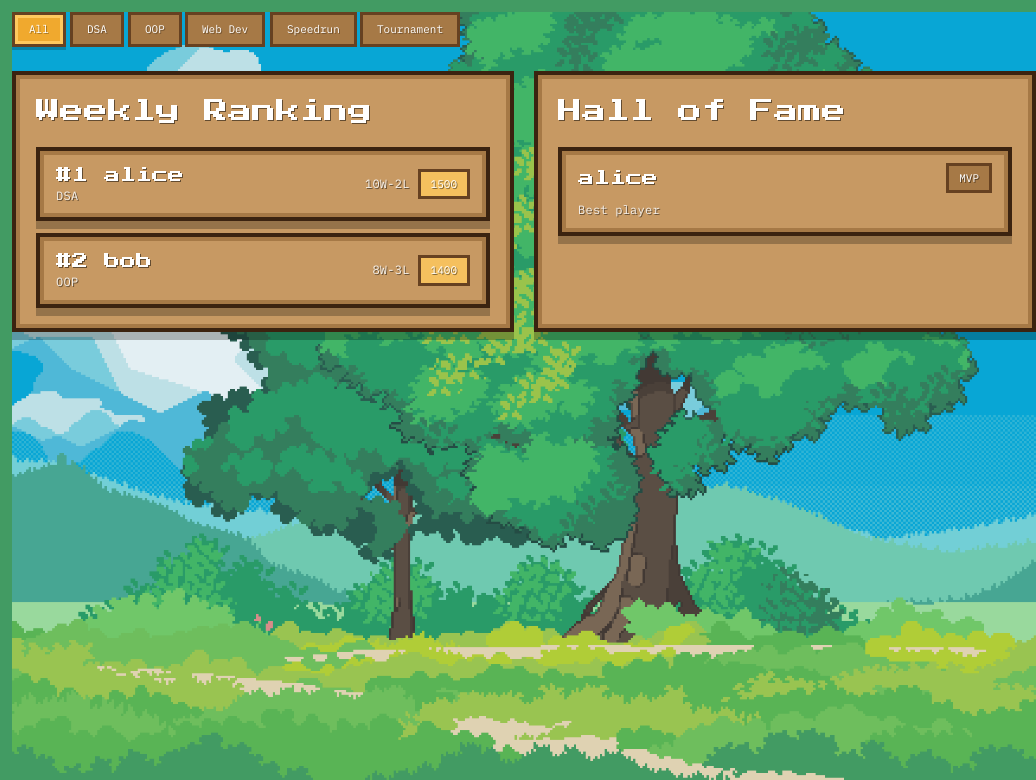
it: LeaderboardFilters › switches to tournament view
Expected: the text "#1 alice" is shown, [56,162,184,186]
Click the button "Tournament" at x=410, y=29, box [360,12,460,46]
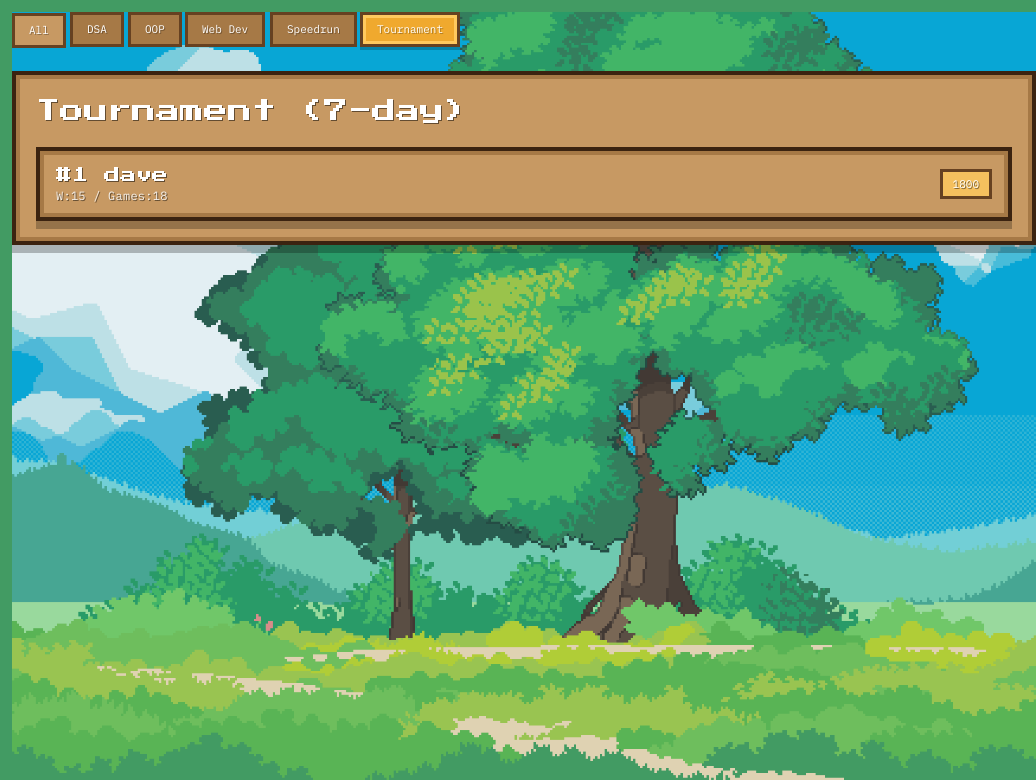
Expected: the text "#1 dave" is shown, [56,162,168,186]
Expected: the text "W:15 / Games:18" is shown, [56,186,168,205]
